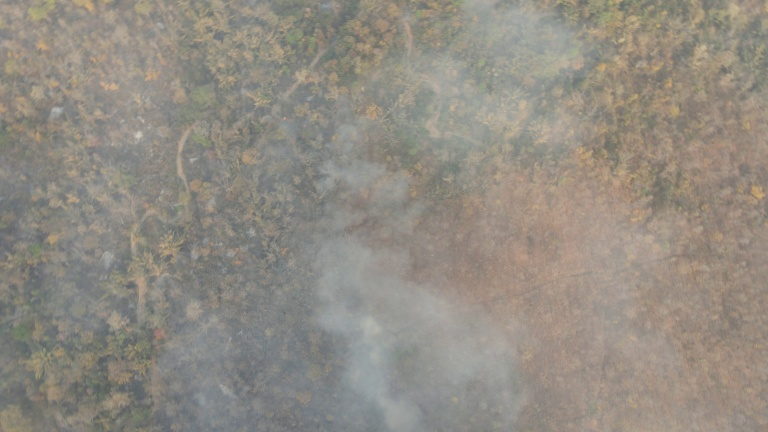smoke: (298, 239, 523, 422), (425, 14, 572, 146)
